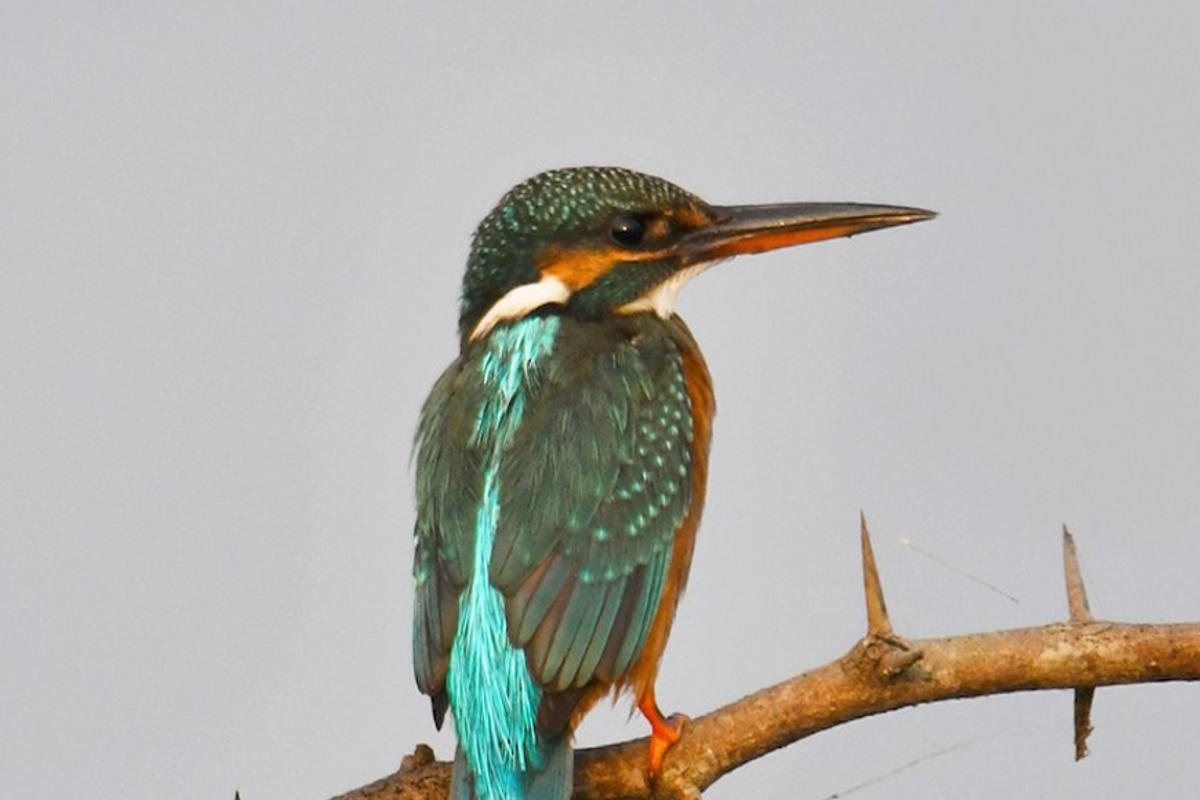kingfisher: (401, 142, 951, 776)
